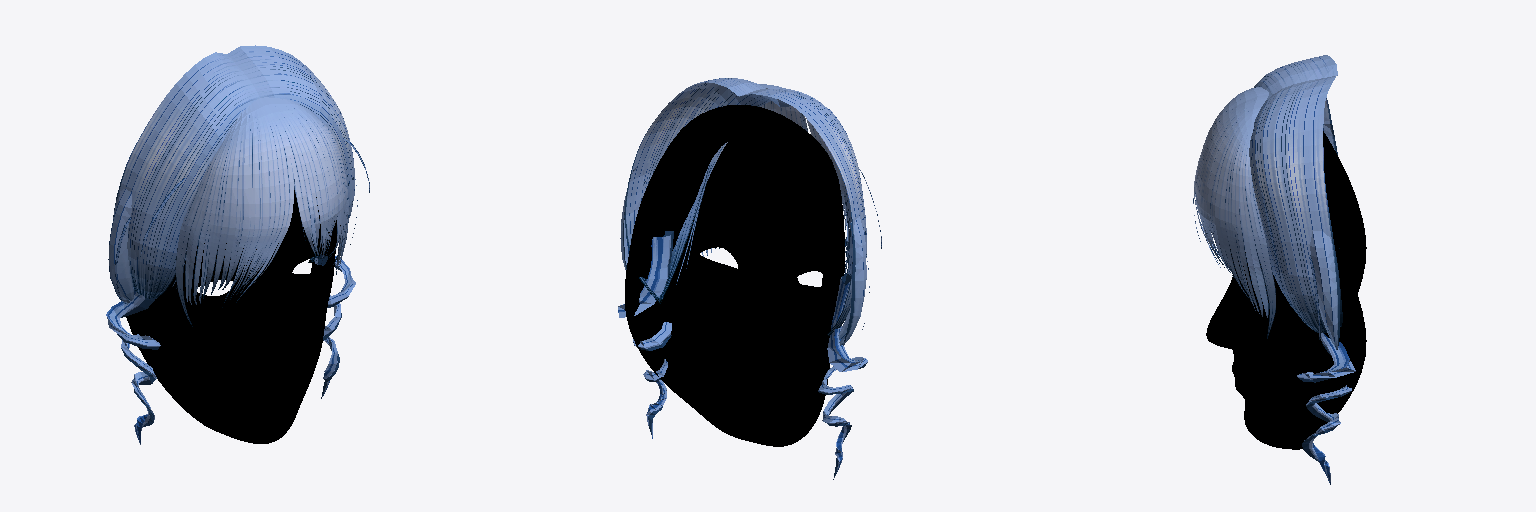
3 renders of one model, left to right at view 1: azimuth 30°, elevation 25°; view 2: azimuth 150°, elevation 25°; view 3: azimuth 270°, elevation 25°, orthographic.
Parts seen in each view (by area): view 1: objMesh_kami_side_06_Layer1, face, objMesh_kami_front_06_Layer1; view 2: face, objMesh_kami_side_06_Layer1, objMesh_kami_front_06_Layer1; view 3: objMesh_kami_side_06_Layer1, face, objMesh_kami_front_06_Layer1.
Part boxes in pixels (x1,y1,x2,y2): objMesh_kami_side_06_Layer1: (106, 45, 369, 444); face: (126, 190, 340, 443); objMesh_kami_front_06_Layer1: (175, 97, 348, 326); face: (625, 105, 844, 446); objMesh_kami_side_06_Layer1: (618, 78, 881, 479); objMesh_kami_front_06_Layer1: (701, 84, 849, 273); objMesh_kami_side_06_Layer1: (1249, 55, 1355, 484); face: (1206, 131, 1366, 449); objMesh_kami_front_06_Layer1: (1193, 87, 1275, 338).
Bounding box in the file's own units: 1.76 × 2.57 × 1.09.
Materials: 3 (2 with a texture image).